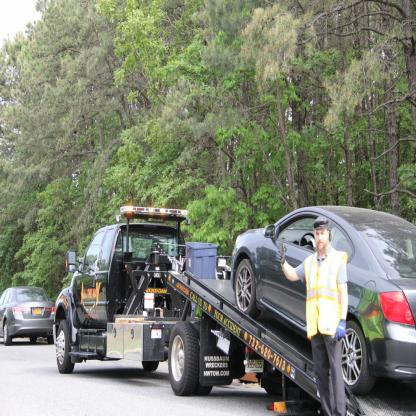Car: (233, 205, 416, 397), (1, 288, 57, 346)
